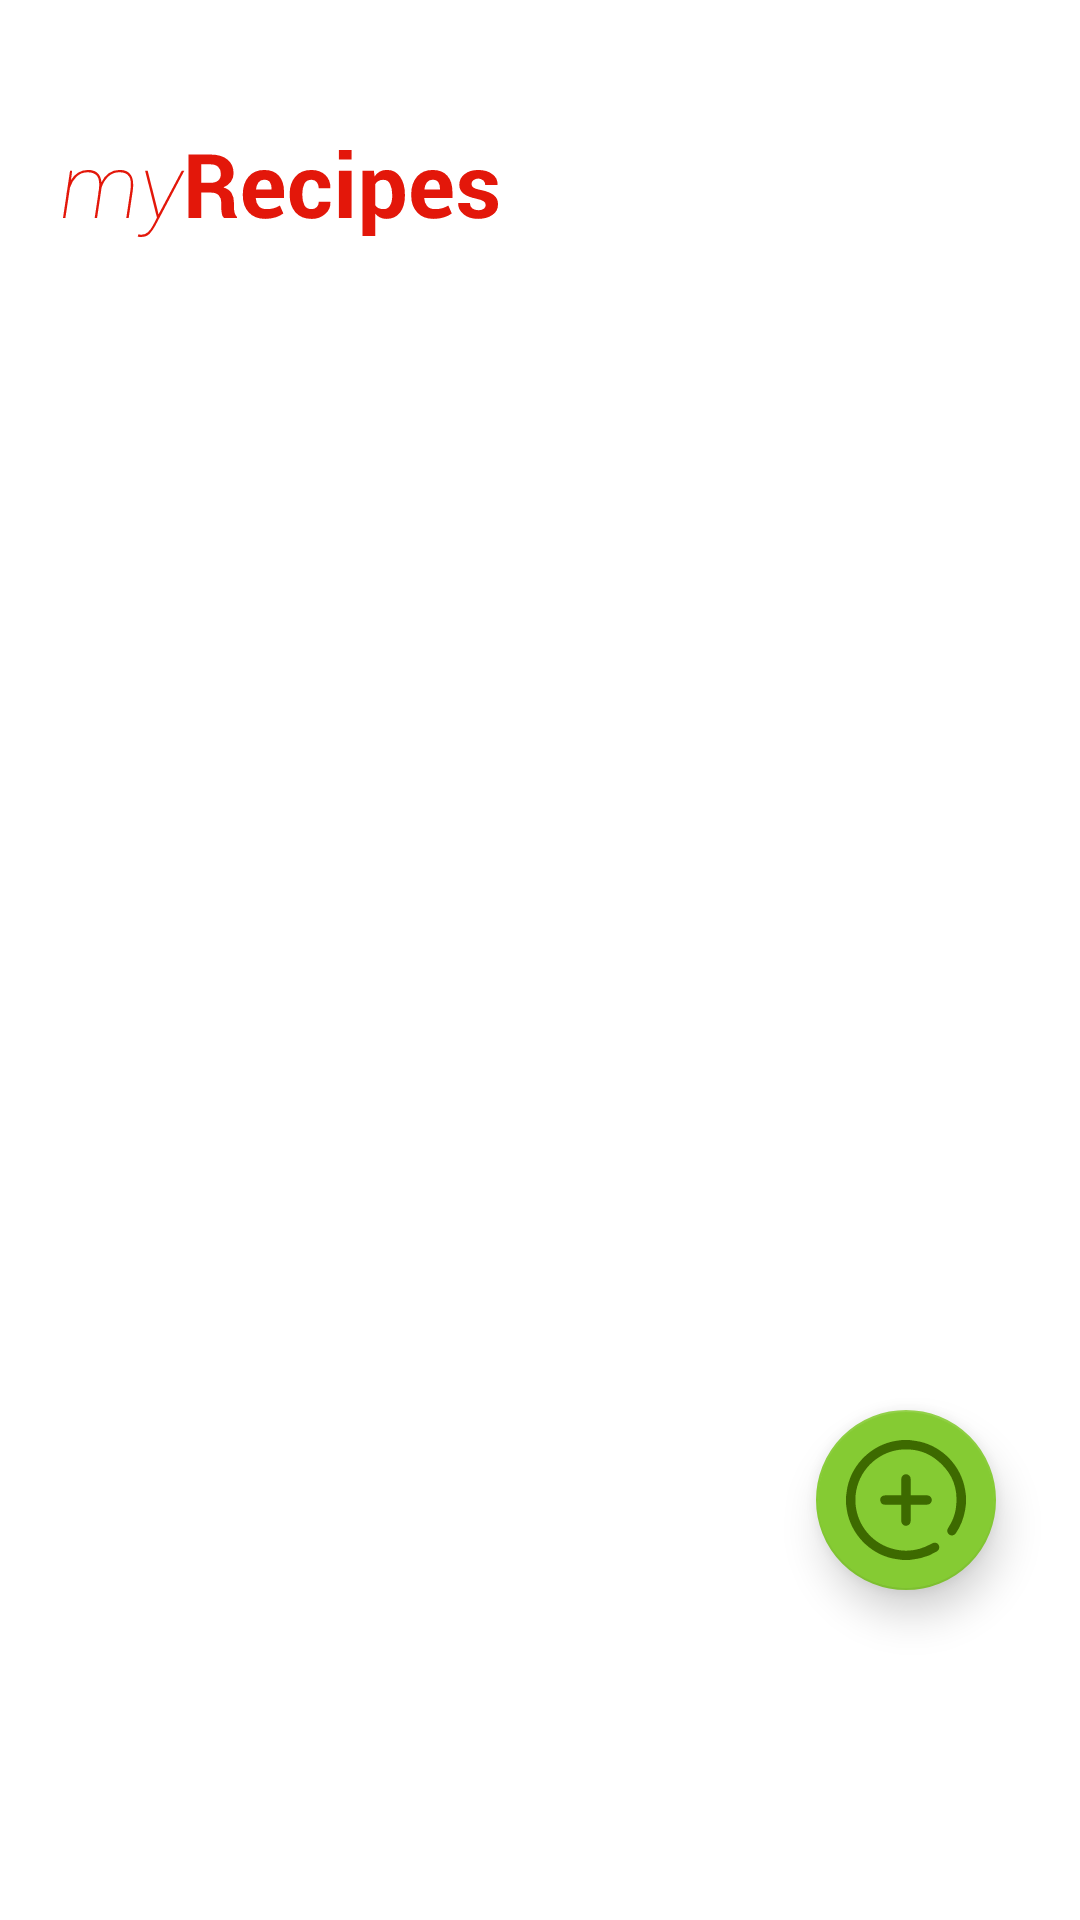

Where to tap for icons on this 1080×1920 app screen, as point (x, y):
addicon: point (906, 1500)
